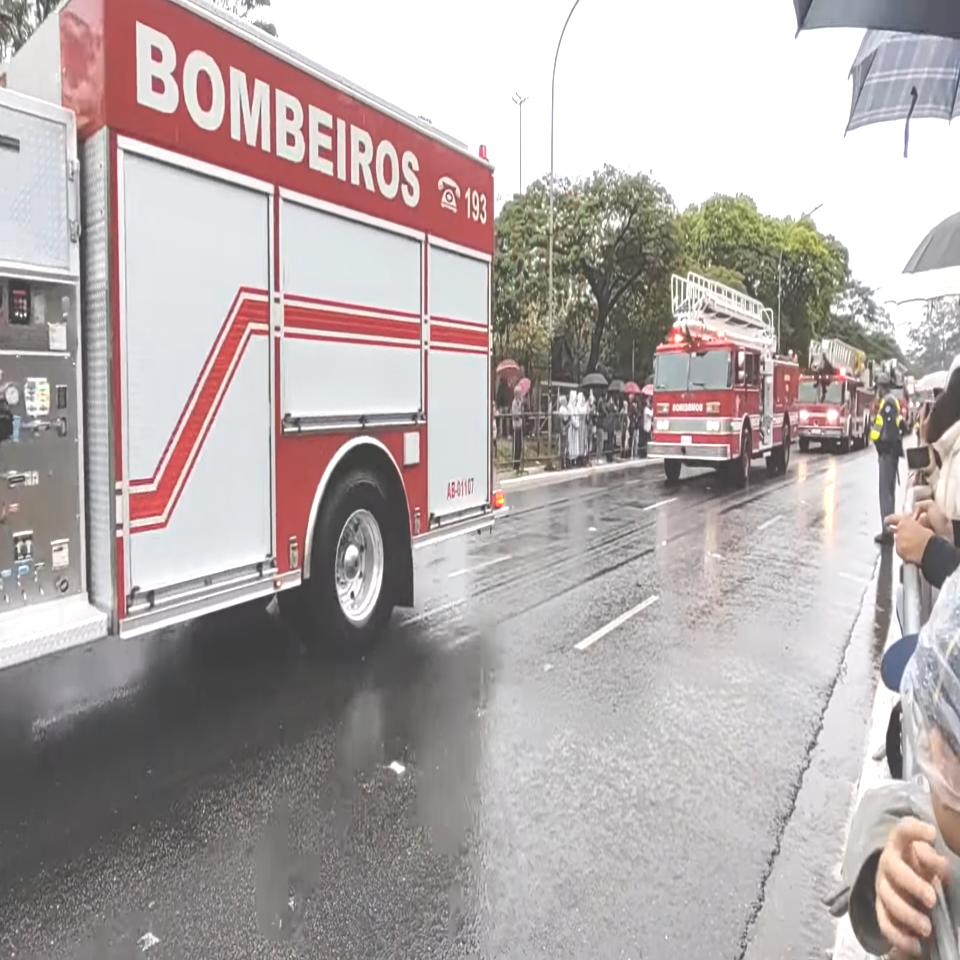bombeiro: (647, 269, 801, 488), (796, 336, 875, 455)
